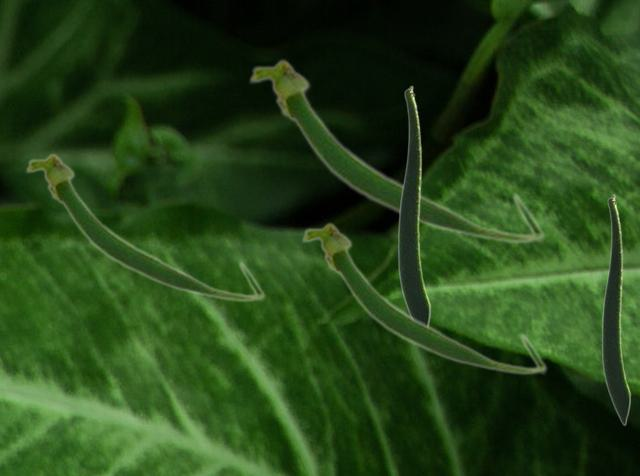french_bean: (247, 56, 545, 244), (300, 220, 547, 375), (24, 151, 265, 302), (397, 85, 430, 323), (601, 194, 630, 425)
